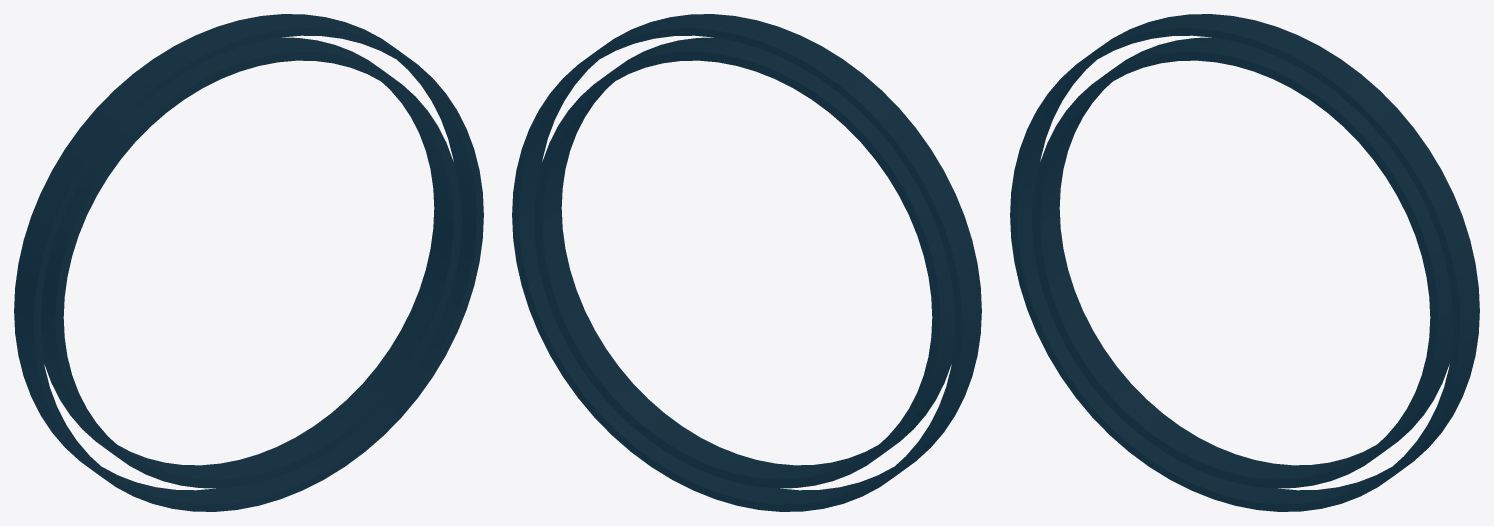
Rendered from simple2.gltf.
3 views of the same model, side by side, from view 1: azimuth 30°, elevation 25°; view 2: azimuth 150°, elevation 25°; view 3: azimuth 330°, elevation 25° (orthographic).
Visible parts, largest first — view 1: Circle.001, Circle.002; view 2: Circle.001, Circle.002; view 3: Circle.001, Circle.002.
Boxes of the visible parts, left/top/right/bottom form: Circle.001: left=14, top=14, right=483, bottom=511; Circle.002: left=40, top=37, right=461, bottom=488; Circle.001: left=512, top=14, right=981, bottom=511; Circle.002: left=534, top=37, right=955, bottom=488; Circle.001: left=1010, top=14, right=1479, bottom=511; Circle.002: left=1032, top=37, right=1453, bottom=488.
Size of the model in its own units: 2 by 2 by 0.15.
